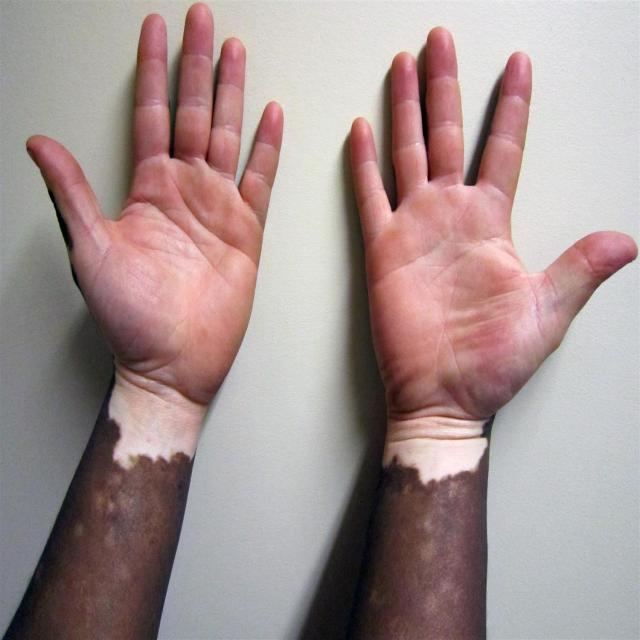vitiligo: (68, 382, 206, 530), (393, 387, 493, 510)
